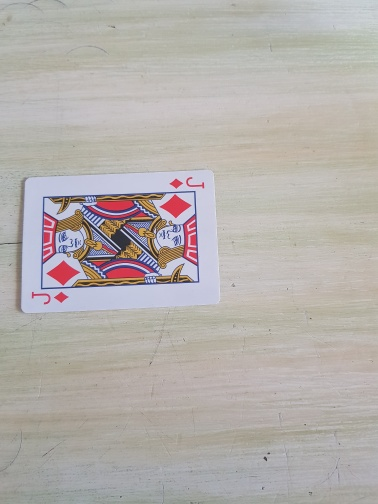jack: (18, 168, 223, 317)
